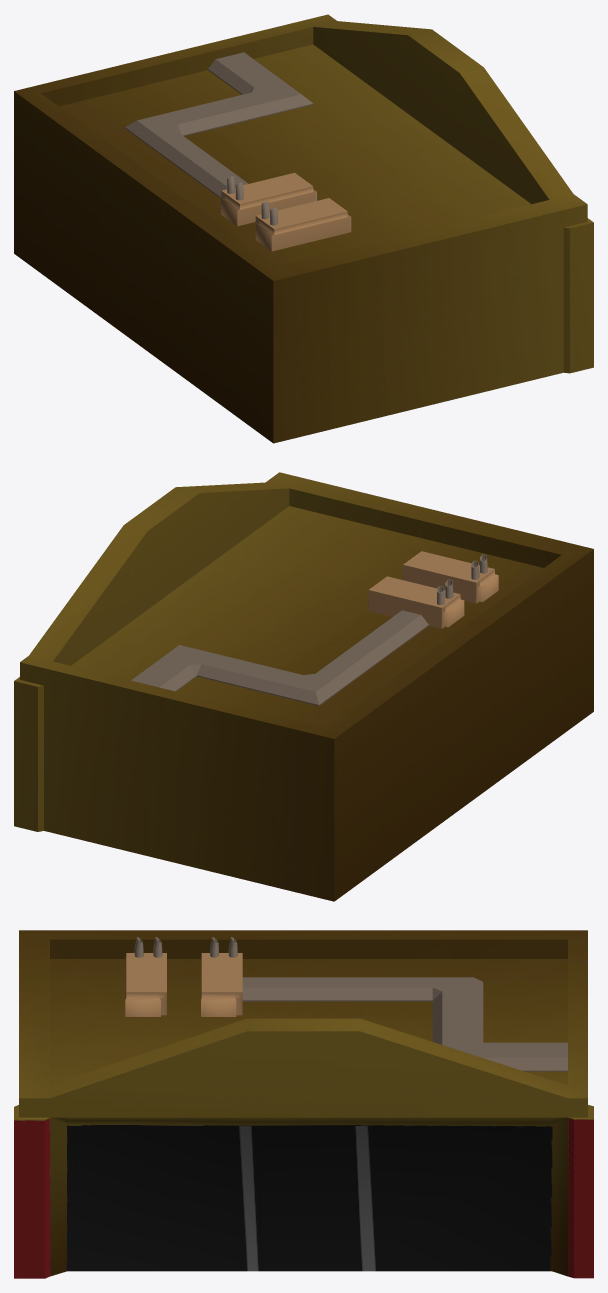
The model's file is Mall.FBX.
3 views of the same model, one above another, from view 1: azimuth 30°, elevation 25°; view 2: azimuth 150°, elevation 25°; view 3: azimuth 270°, elevation 25° (orthographic). The views are drawn at different scales.
Parts seen in each view (by area): view 1: DeptStore; view 2: DeptStore; view 3: DeptStore.
Boxes of the visible parts, x1,y1,x2,y2 form: DeptStore: (14,14,593,443); DeptStore: (14,472,593,901); DeptStore: (14,930,593,1278).
Size of the model in its own units: 1273 by 855 by 1832.
